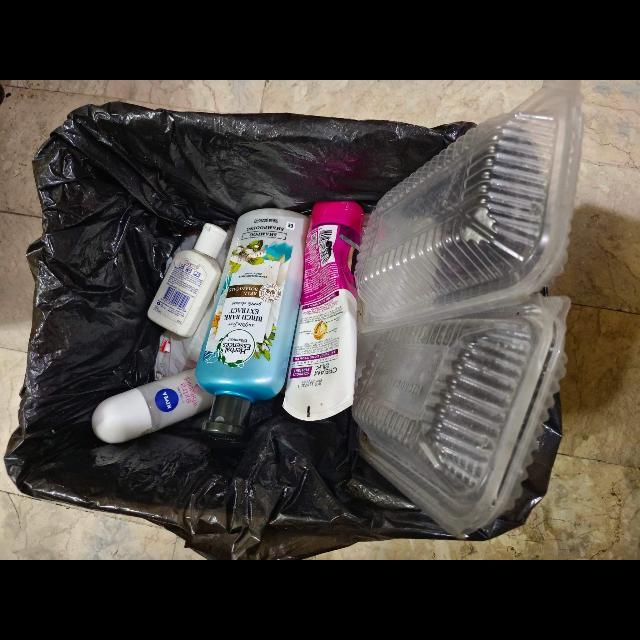glass: (91, 368, 215, 445)
plastic: (354, 80, 584, 335), (351, 306, 568, 540), (194, 208, 309, 441), (282, 201, 365, 422), (147, 223, 227, 337)
